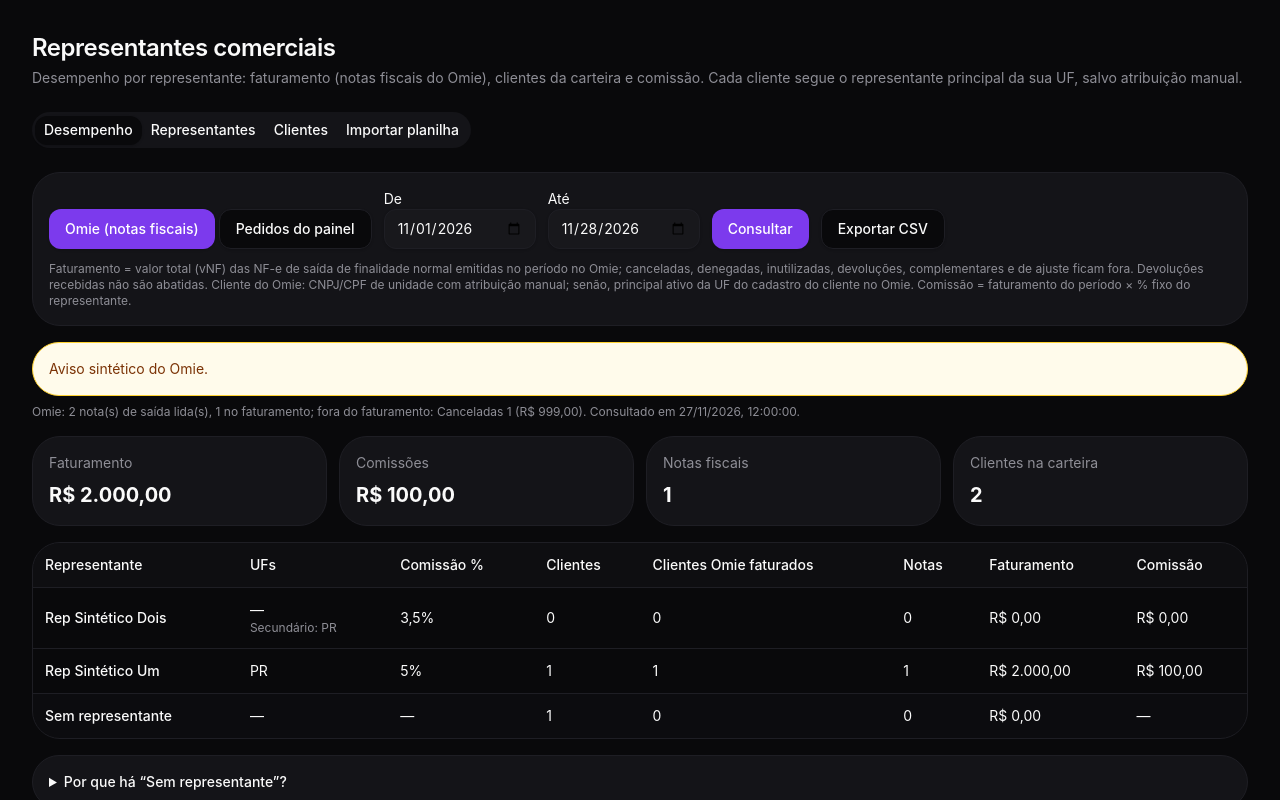
alterna para os pedidos do painel: faturamento, comissão e Sem representante
Expected: the table is shown, [33, 543, 1247, 738]
Click the button "Pedidos do painel". click: point(295, 229)
box: [219, 209, 372, 249]
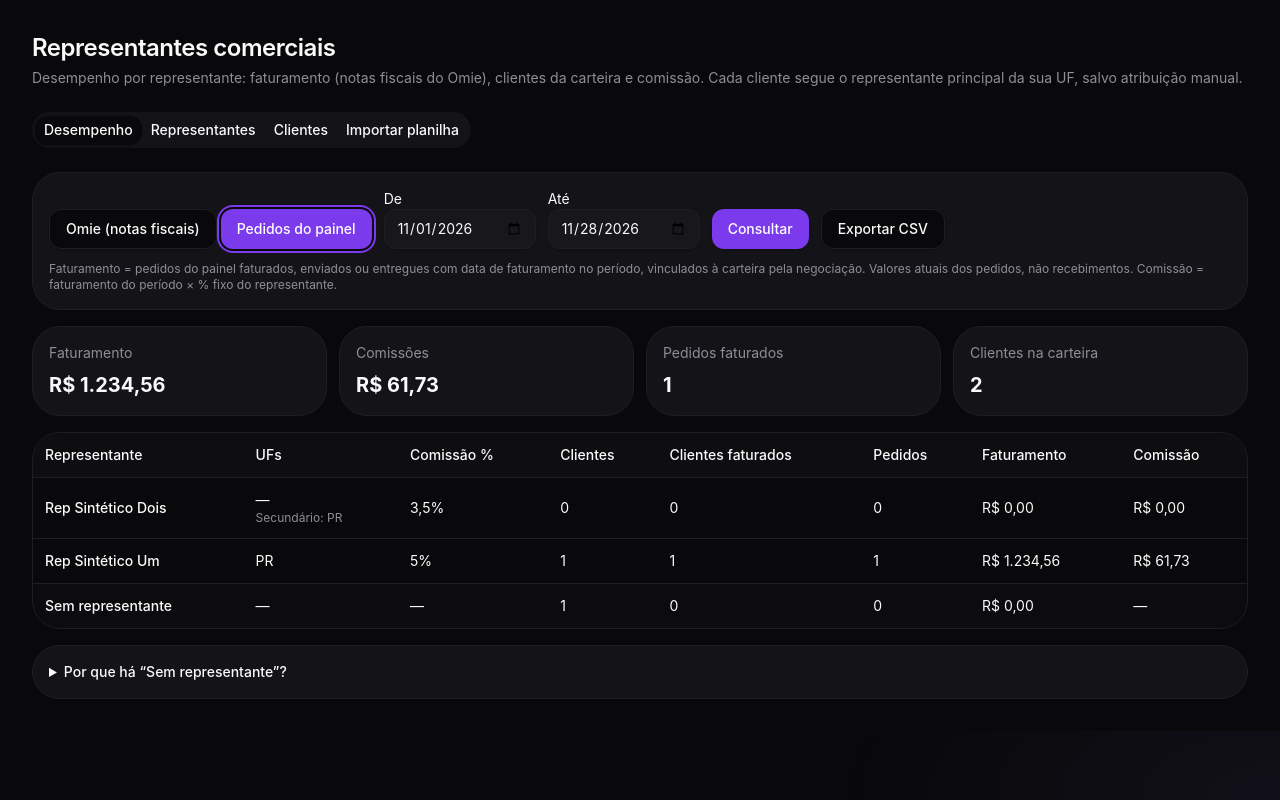
Now the column heading "Pedidos" is shown, box [861, 433, 970, 478]
Now the text "Rep Sintético Um" shows "1.234,56", box [982, 552, 1060, 569]
Now the text "Rep Sintético Um" shows "61,73", box [1133, 552, 1190, 569]
